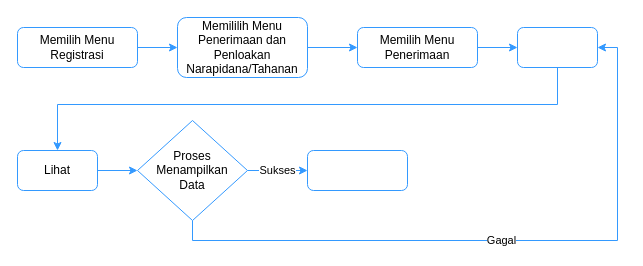
This 643x266 diagram has some shape labels left out. The shapes that lost their labels are listed below. From the top down, each one's centre as x and y in pixels, then its label:
At pixel 557 47: "Halaman Utama".
At pixel 357 170: "Data Tampil".
